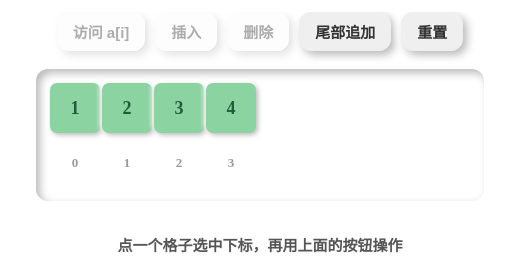
ArrayViz › TC-VIZ-ARRAYVIZ-09 reset 复位 4 格、清选中
Click the button with class "cell" showing "2". click: x=127, y=108
box: [102,83,152,133]
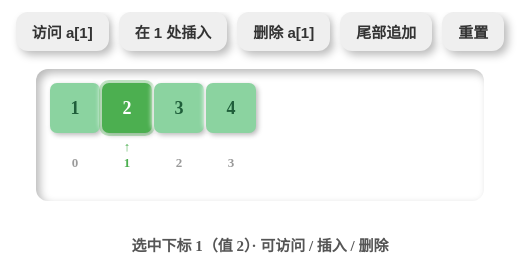
Click the button "尾部追加". click: x=386, y=32
box: [340,12,432,51]
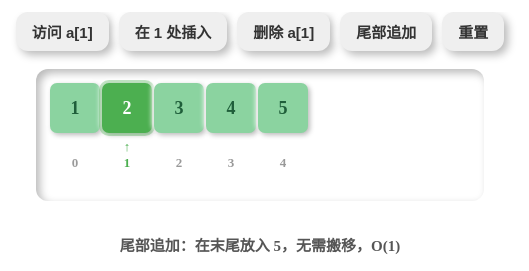
Click the button "重置". click: x=473, y=32
box: [442,12,504,51]
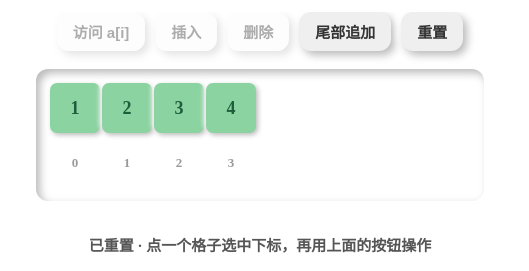
Expected: the number of buttons with class "cell" is 4, [50,83,100,133]; [102,83,152,133]; [154,83,204,133]; [206,83,256,133]
Expected: no buttons with class "is-selected" are shown
